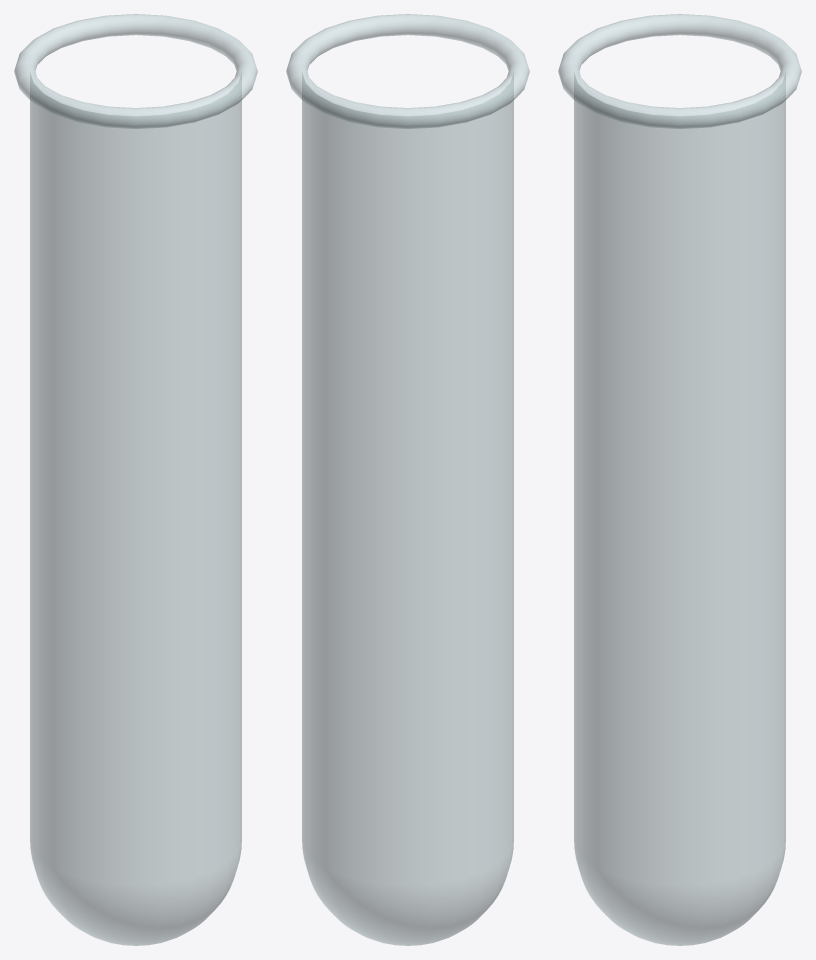
The picture shows the model from 3 angles, left to right: view 1: azimuth 30°, elevation 25°; view 2: azimuth 150°, elevation 25°; view 3: azimuth 270°, elevation 25°; orthographic projection.
Visible parts, largest first — view 1: TestTube; view 2: TestTube; view 3: TestTube.
Part boxes in pixels (bbox=[...]): TestTube: bbox=[14, 14, 257, 945]; TestTube: bbox=[286, 14, 529, 945]; TestTube: bbox=[558, 14, 801, 945].
Size of the model in its own units: 0.46 by 1.82 by 0.46.
